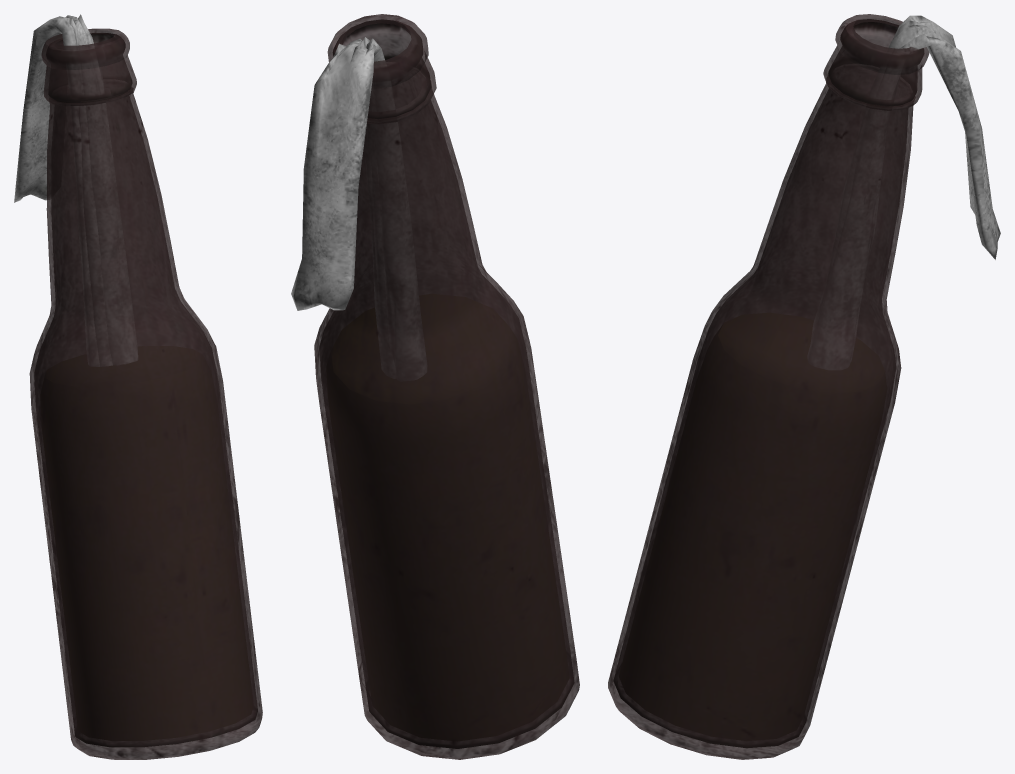
File: Molotov_Cocktail.glb
3 views of the same model, side by side, from view 1: azimuth 30°, elevation 25°; view 2: azimuth 150°, elevation 25°; view 3: azimuth 270°, elevation 25° (orthographic). The views are drawn at different scales.
Visible parts, largest first — view 1: Bottle, Liquid, Fabric; view 2: Bottle, Liquid, Fabric; view 3: Bottle, Liquid, Fabric.
Boxes of the visible parts, x1,y1,x2,y2 form: Bottle: (29,28,262,759); Liquid: (41,346,252,740); Fabric: (14,14,137,366); Bottle: (314,14,579,759); Liquid: (327,294,568,740); Fabric: (291,37,426,377); Bottle: (608,14,929,759); Liquid: (619,313,886,739); Fabric: (808,15,1000,369).
Bounding box in the file's own units: 0.0545 × 0.2069 × 0.103.
Materials: 3 (2 with a texture image).
